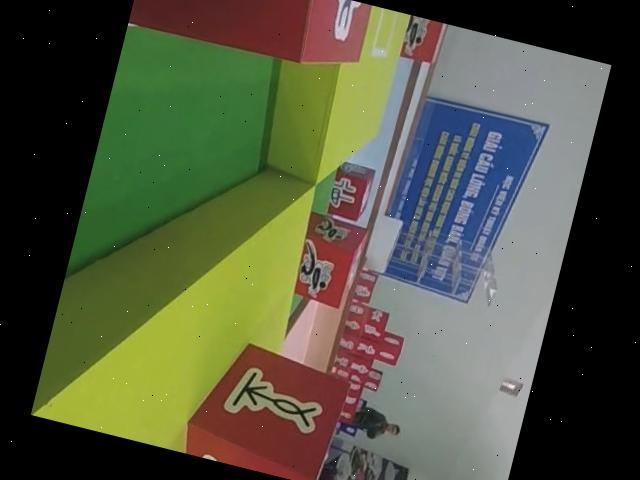R1: (278, 208, 371, 315), (390, 13, 449, 69)
R2 Real: (172, 328, 357, 480), (316, 155, 378, 226)
